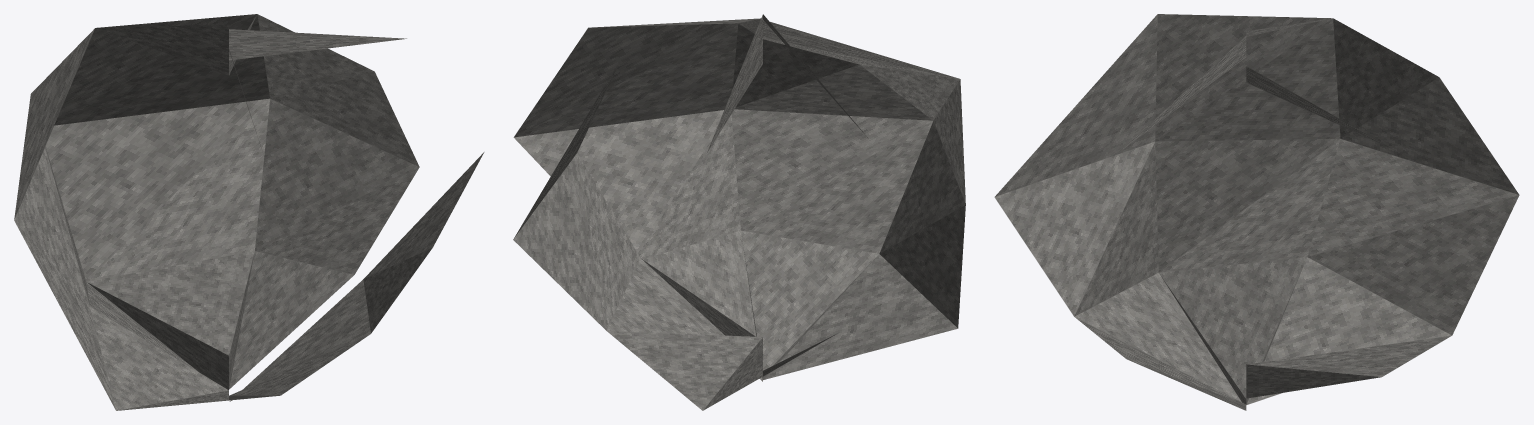
The model's file is rock_03.gltf.
The picture shows the model from 3 angles, left to right: view 1: azimuth 30°, elevation 25°; view 2: azimuth 150°, elevation 25°; view 3: azimuth 270°, elevation 25°; orthographic projection. The views are drawn at different scales.
Parts seen in each view (by area): view 1: rock_03; view 2: rock_03; view 3: rock_03.
Boxes of the visible parts, x1=… form: rock_03: x1=14, y1=14, x2=484, y2=410; rock_03: x1=513, y1=14, x2=965, y2=410; rock_03: x1=994, y1=14, x2=1519, y2=410.
Size of the model in its own units: 1.33 by 1.13 by 1.42.
1 material, 1 textured.
